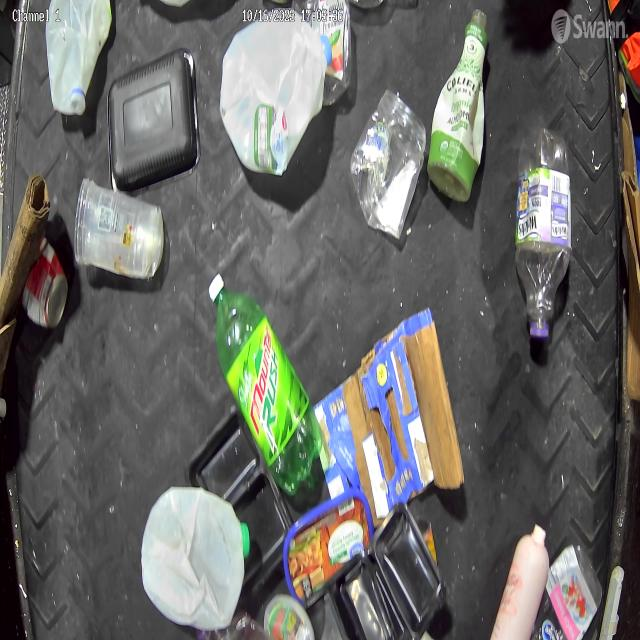milk_jug: (219, 18, 327, 176), (140, 486, 249, 628), (43, 0, 101, 111)
plastic_bottle: (508, 125, 572, 358), (74, 172, 164, 284)
